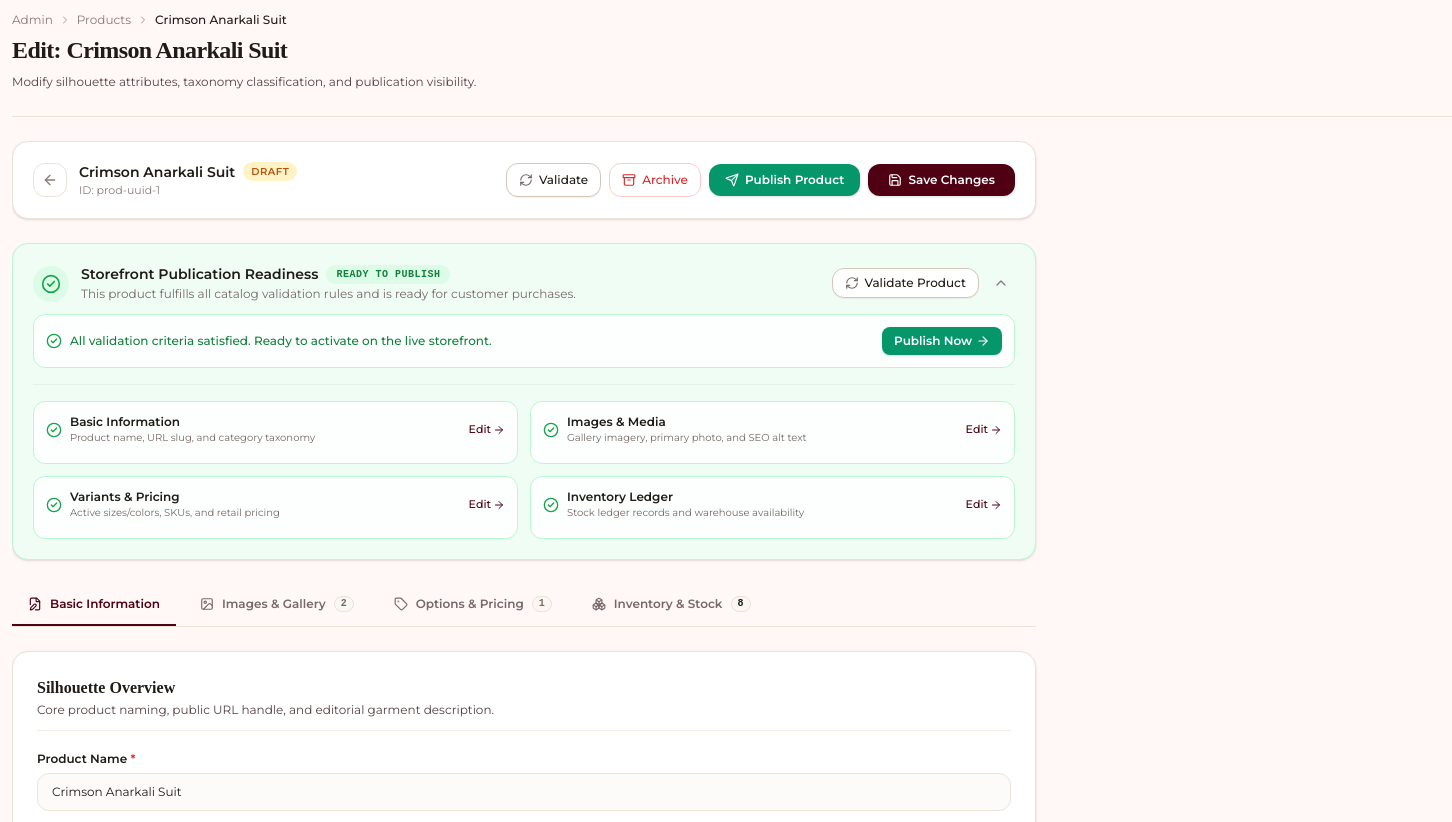
Admin Product Edit Flow › navigates to Options & Pricing tab, showing INR prices and discounts
Click the text "Options & Pricing": (470, 604) [416,596,524,612]
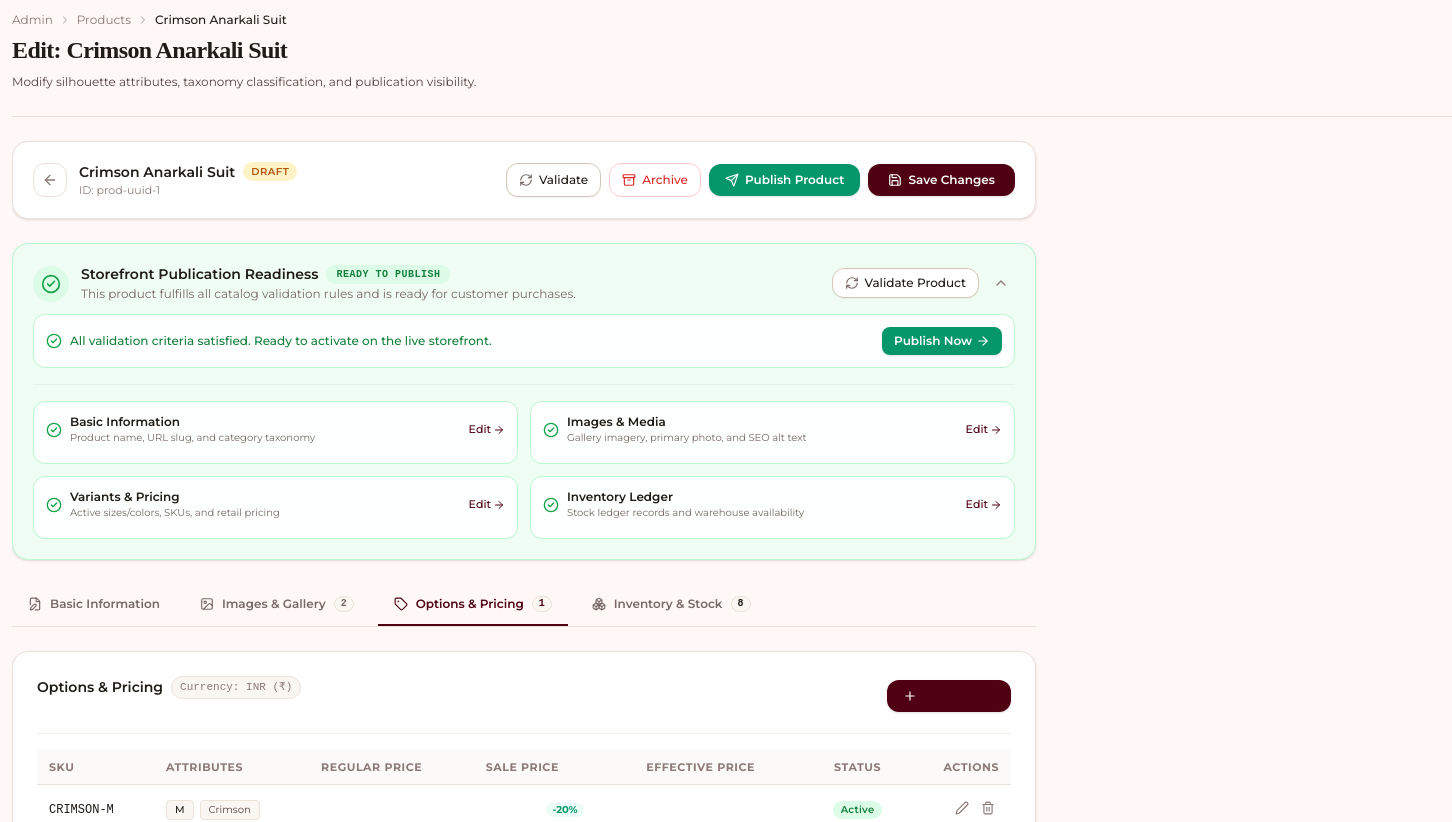
Check: the text "-20%" is shown, box [546,804,584,817]
